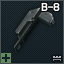MP-443 Zenit B-8 mount: (0, 0, 64, 64)
